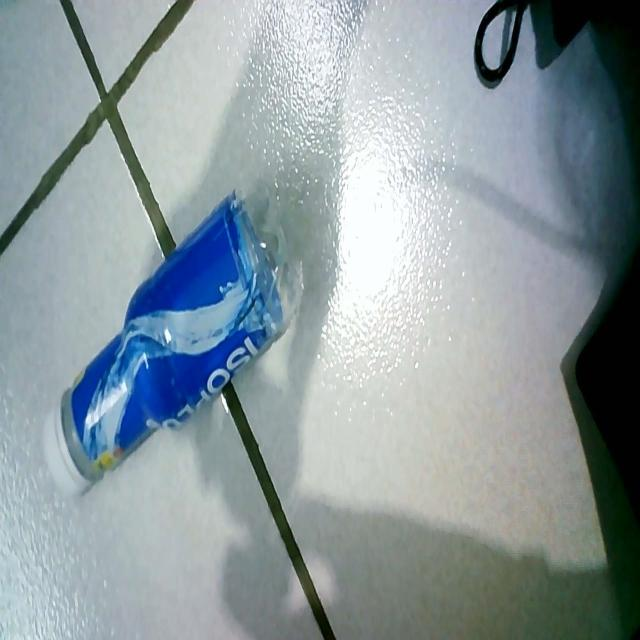botol: (43, 172, 307, 516)
